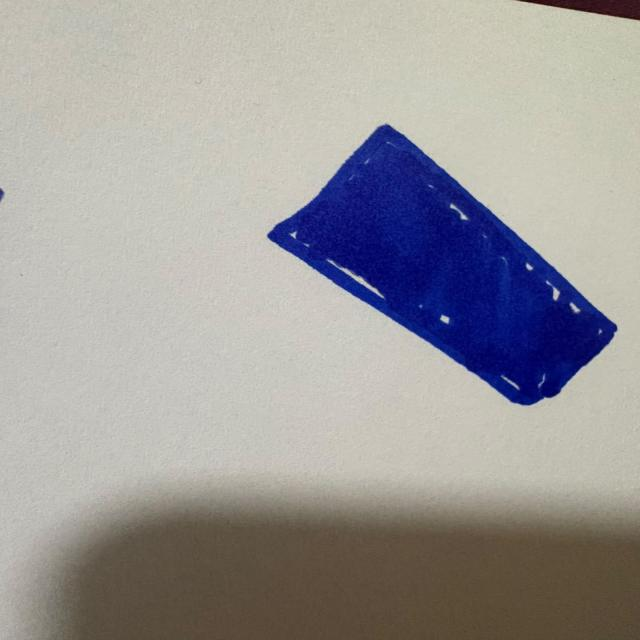Rectangle: (268, 124, 617, 406)
